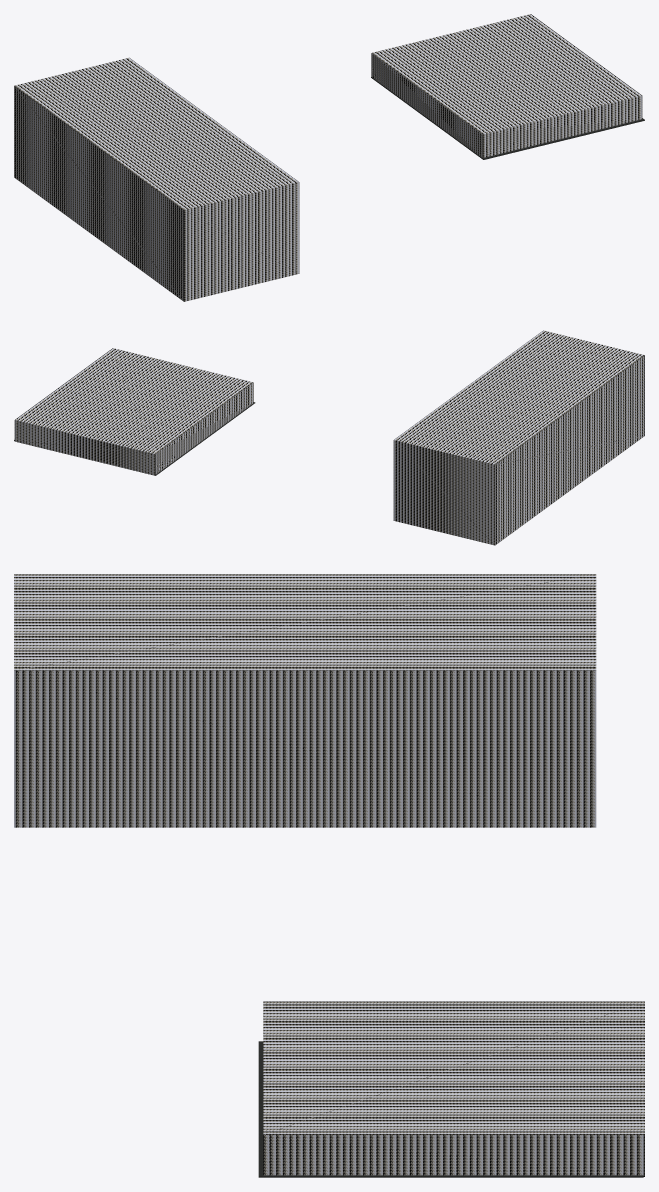
The model's file is Plane2_brush.glb.
The picture shows the model from 3 angles, top to bottom: view 1: azimuth 30°, elevation 25°; view 2: azimuth 150°, elevation 25°; view 3: azimuth 270°, elevation 25°; orthographic projection. The views are drawn at different scales.
Visible parts, largest first — view 1: Plane2; view 2: Plane2; view 3: Plane2.
Boxes of the visible parts, x1,y1,x2,y2 form: Plane2: (14,14,644,301); Plane2: (14,330,644,545); Plane2: (14,574,644,1177).
Size of the model in its own units: 40342 by 6723 by 24185.
19 materials, 19 textured.
